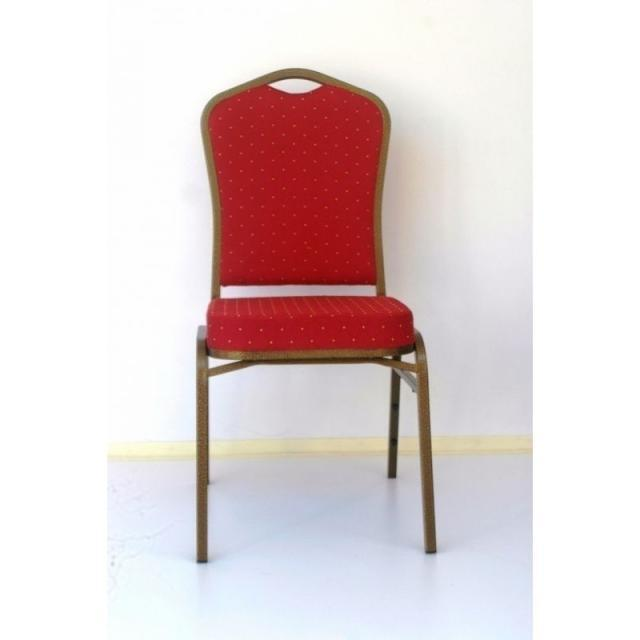chair: (186, 68, 440, 571)
